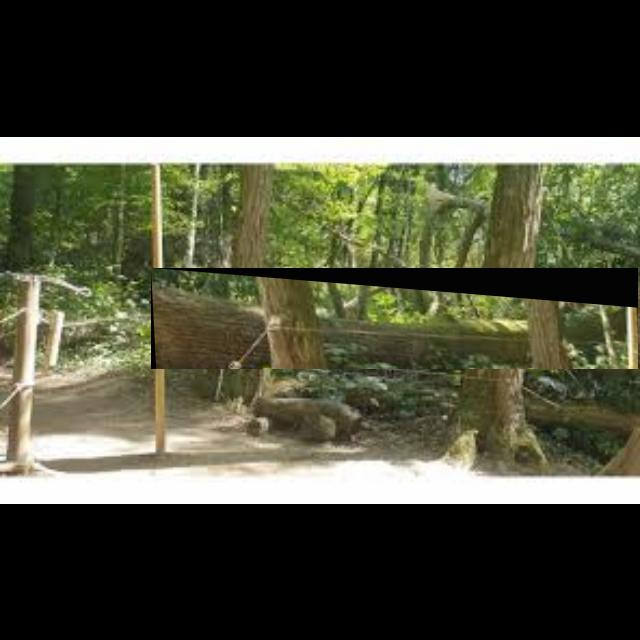Fallen Tree: (151, 268, 639, 370)
